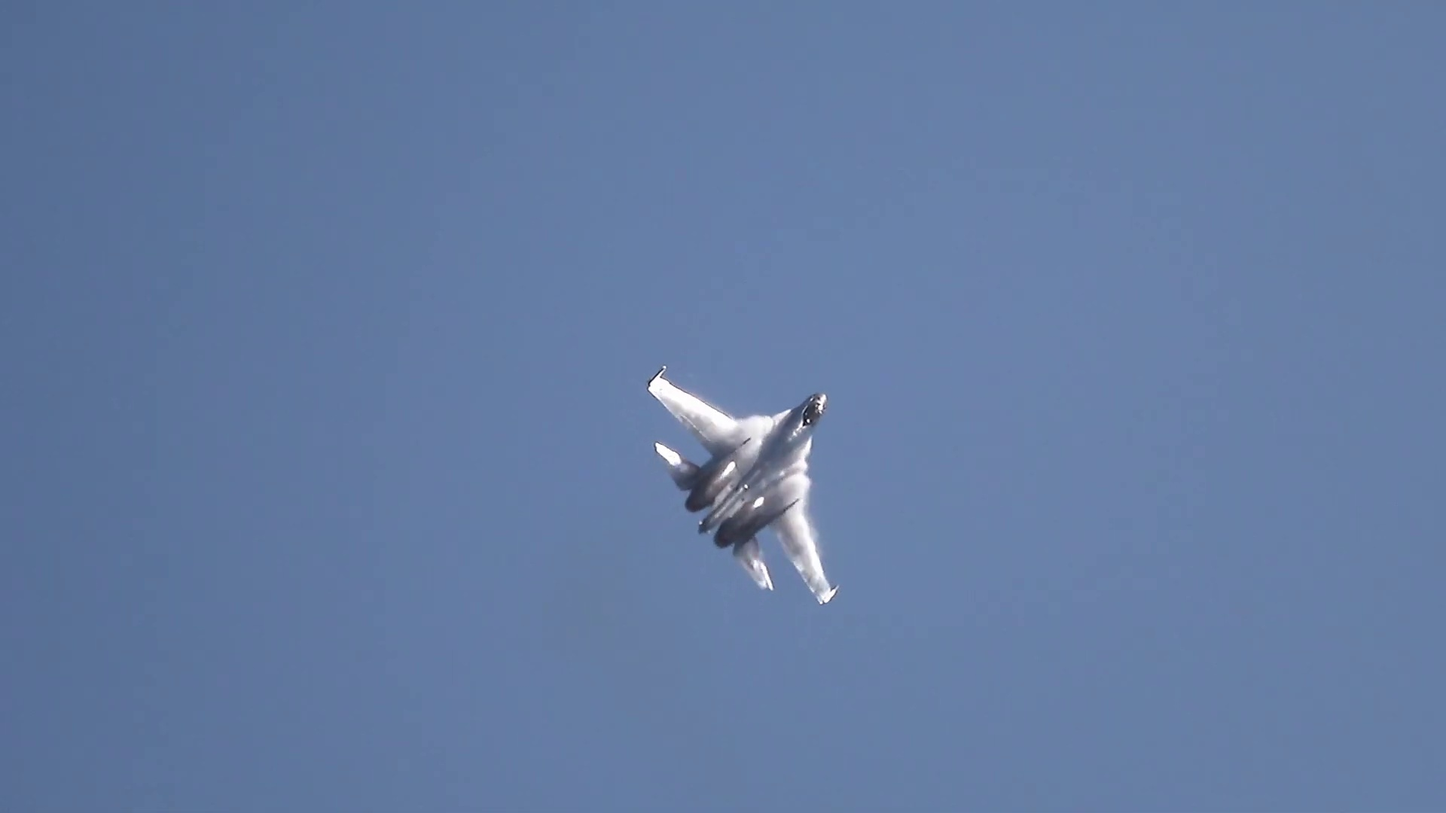Su35: (646, 365, 840, 606)
